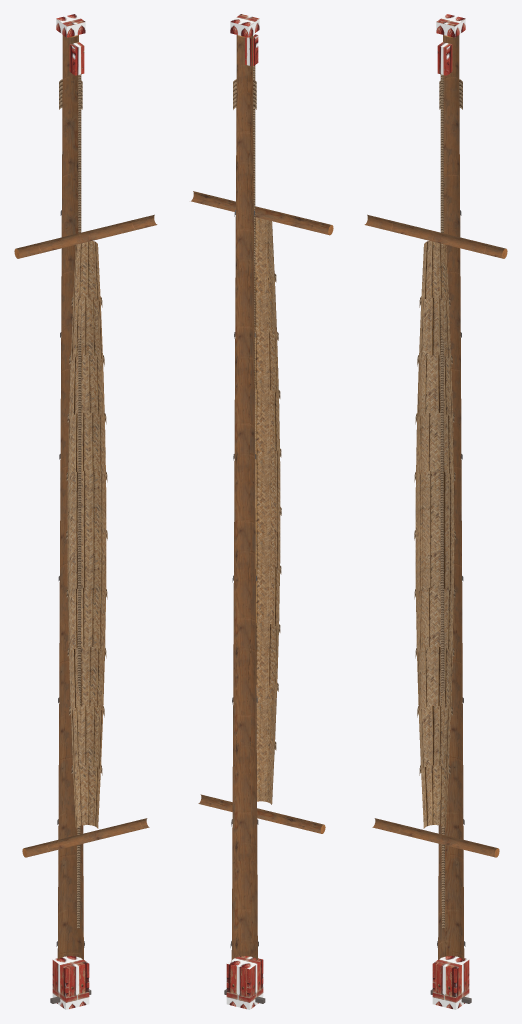
The model's file is qm_mast.glb.
3 renders of one model, left to right at view 1: azimuth 30°, elevation 25°; view 2: azimuth 150°, elevation 25°; view 3: azimuth 330°, elevation 25°, orthographic.
Visible parts, largest first — view 1: sail, pole, rope, lac; view 2: pole, sail, lac, rope; view 3: sail, pole, rope, lac.
Part boxes in pixels (<box>): sail: <box>67,241,106,828</box>; pole: <box>16,35,157,961</box>; rope: <box>59,73,107,928</box>; lac: <box>52,14,89,1009</box>; pole: <box>191,35,330,961</box>; sail: <box>255,217,280,804</box>; lac: <box>226,14,263,1009</box>; rope: <box>233,65,281,750</box>; sail: <box>415,241,454,828</box>; pole: <box>364,35,505,961</box>; rope: <box>414,73,462,928</box>; lac: <box>432,14,469,1009</box>.
Size of the model in its own units: 1.8 by 12.09 by 0.754.
6 materials, 5 textured.
